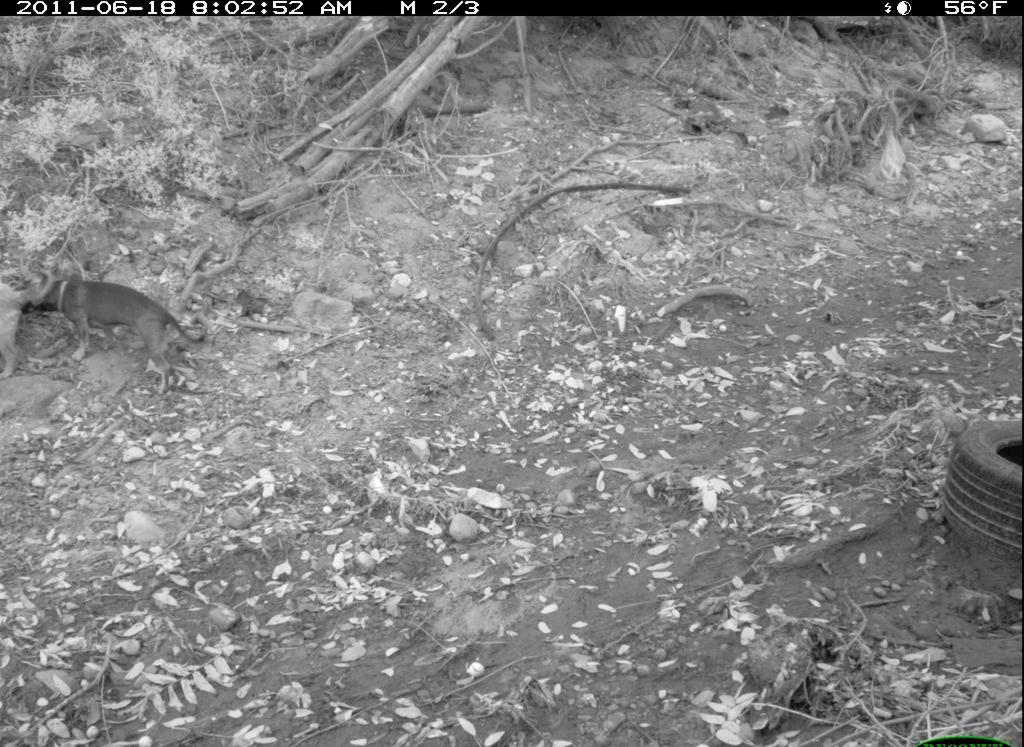dog: (24, 259, 213, 402)
